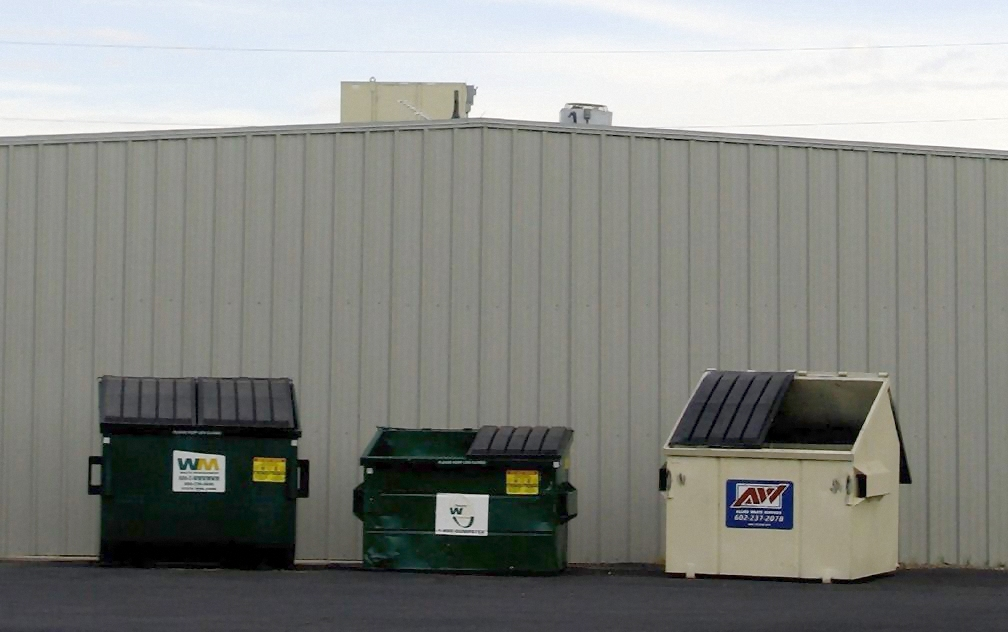Dumpster: (654, 367, 921, 589), (77, 365, 320, 576), (349, 420, 586, 576)
